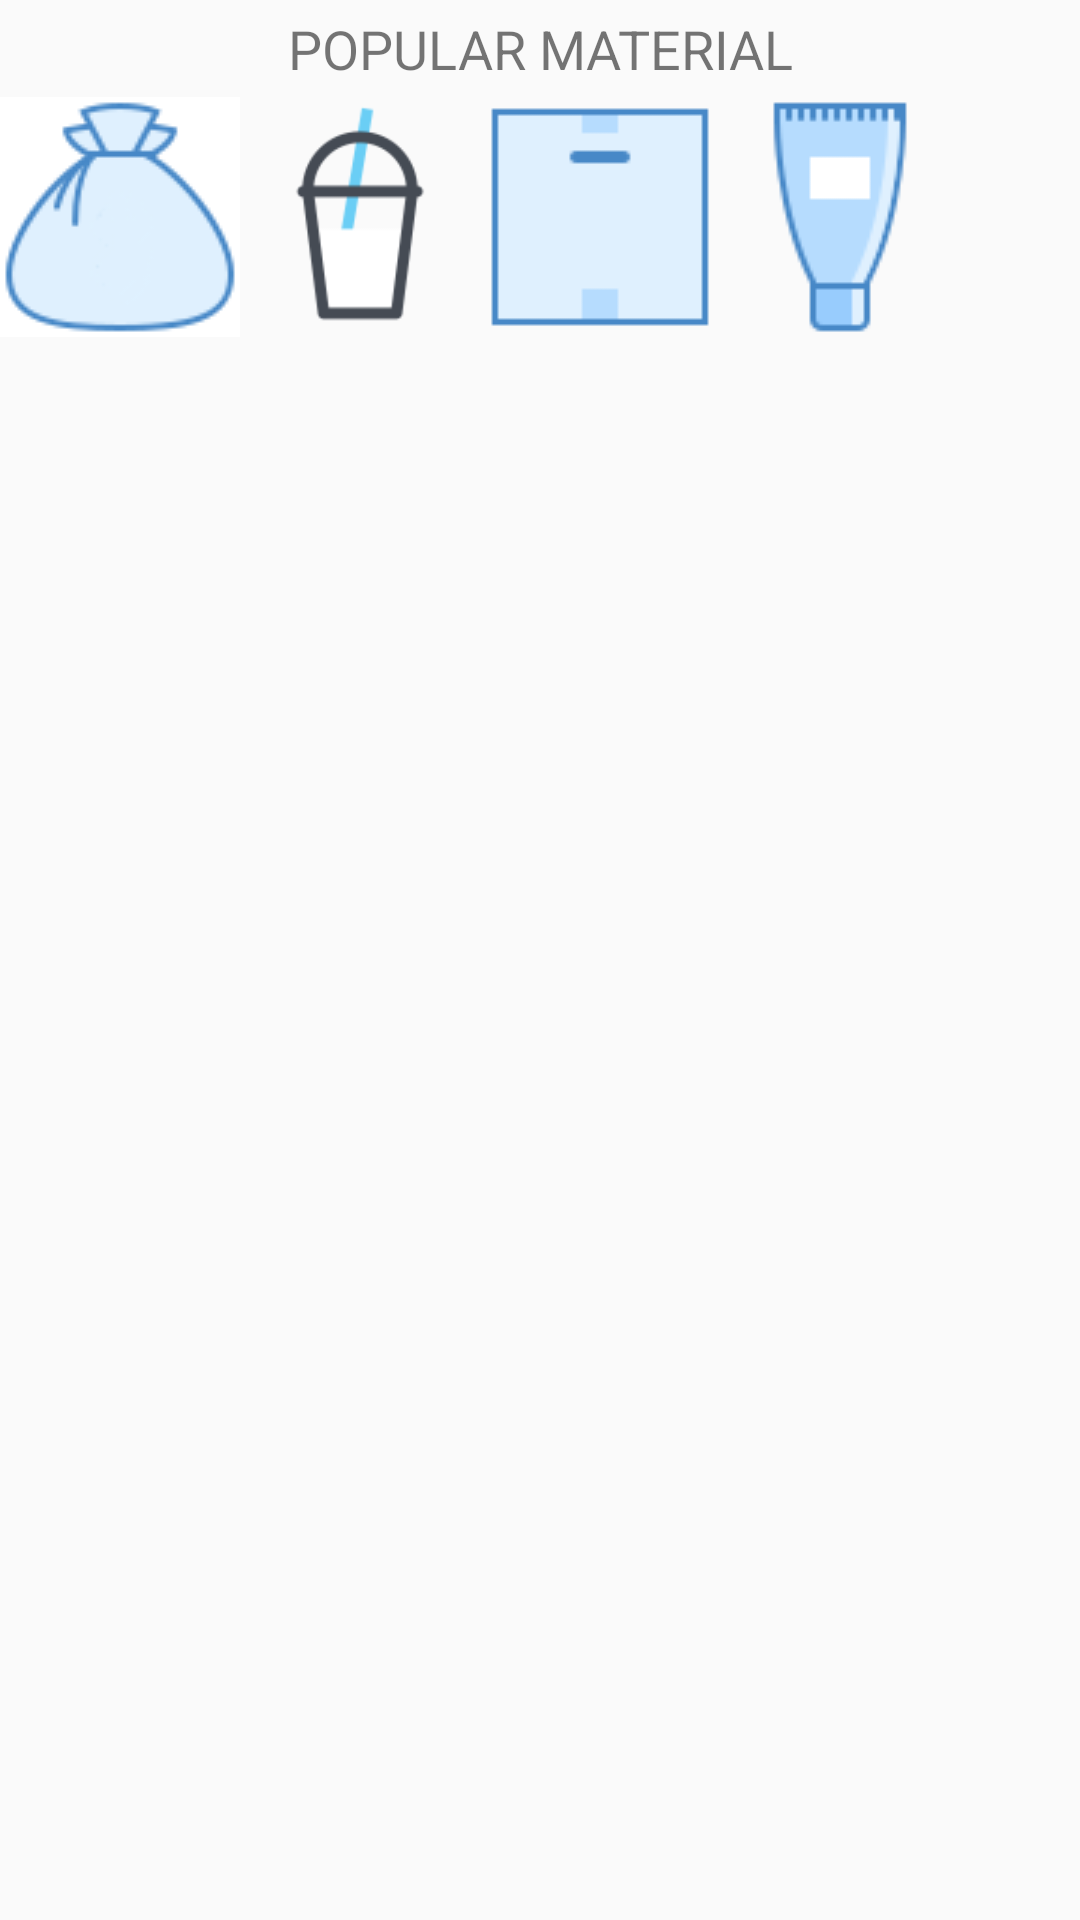

Named icons in this screenshot (1080px×1920px) and their bounding boxes, (x1, y1, x2, y2):
cardboard box: (491, 108, 709, 326)
milkshake: (296, 108, 424, 320)
money bag: (5, 102, 235, 332)
tube: (773, 102, 907, 332)
